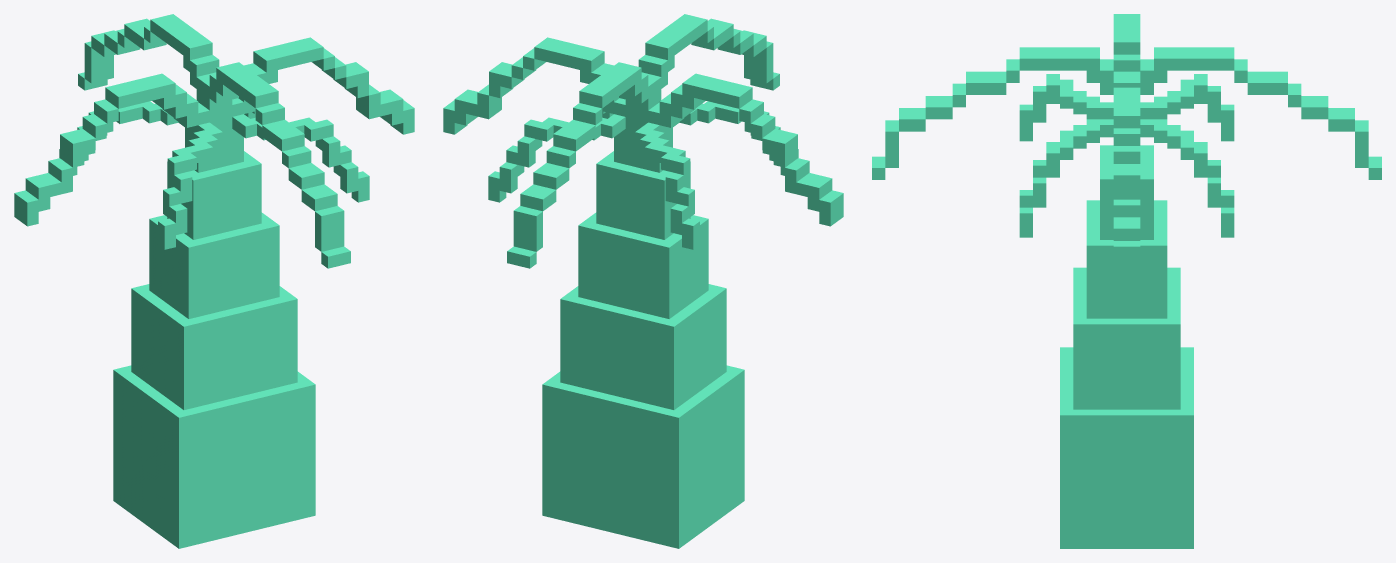
Rendered from palm_tree.obj.
The picture shows the model from 3 angles, left to right: view 1: azimuth 30°, elevation 25°; view 2: azimuth 150°, elevation 25°; view 3: azimuth 270°, elevation 25°; orthographic projection. The views are drawn at different scales.
Bounding box in the file's own units: 3.4 × 3.8 × 3.8.
1 material, 1 textured.
